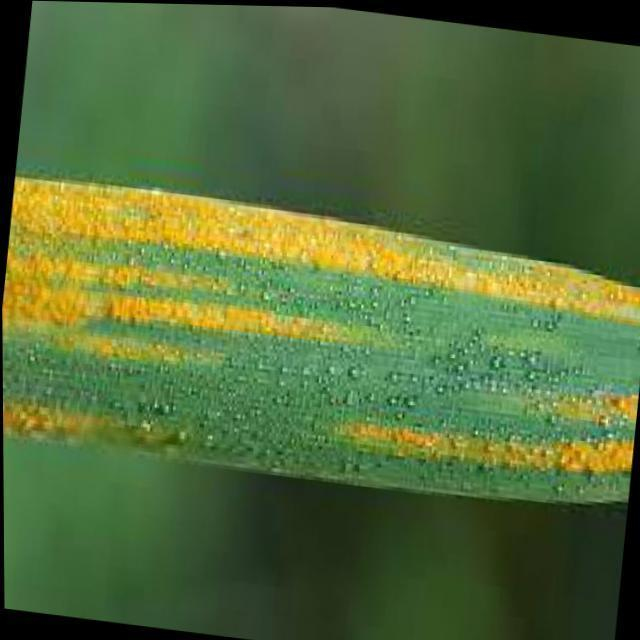Yellow Rust: (1, 177, 639, 505)
